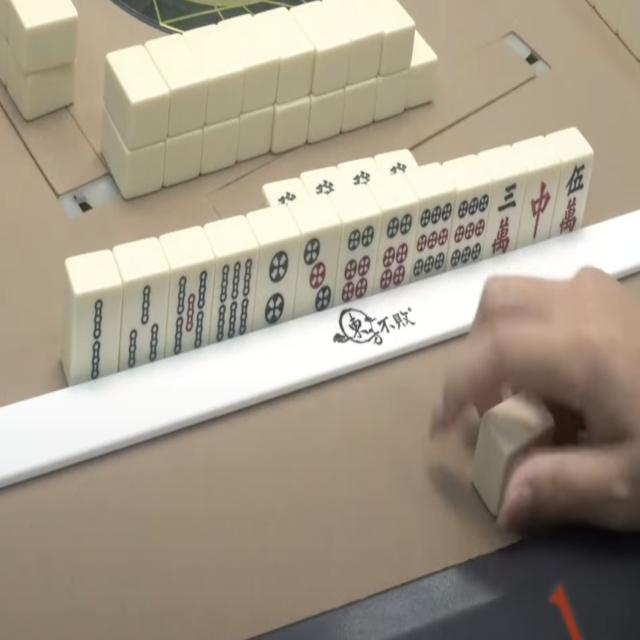m3: (489, 177, 528, 258)
m5: (551, 157, 593, 238)
s2: (70, 289, 124, 385)
s3: (122, 278, 170, 368)
s5: (166, 267, 213, 355)
s6: (210, 254, 260, 344)
t2: (256, 240, 301, 328)
t3: (296, 230, 341, 317)
t6: (335, 220, 381, 307), (376, 209, 418, 293)
t9: (448, 186, 492, 268), (412, 199, 454, 280)
zhong: (520, 170, 560, 244)
